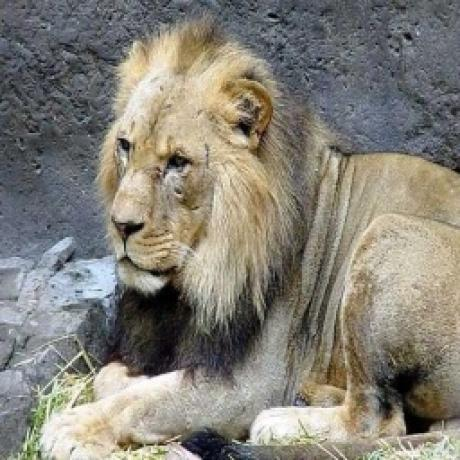Lion: (88, 18, 460, 458)
